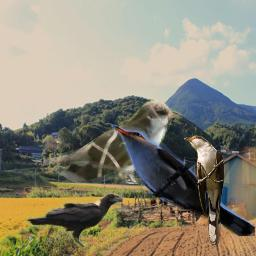Crow: (26, 193, 124, 248)
Cuckoo: (110, 123, 255, 236), (43, 99, 183, 184), (184, 135, 225, 245)
